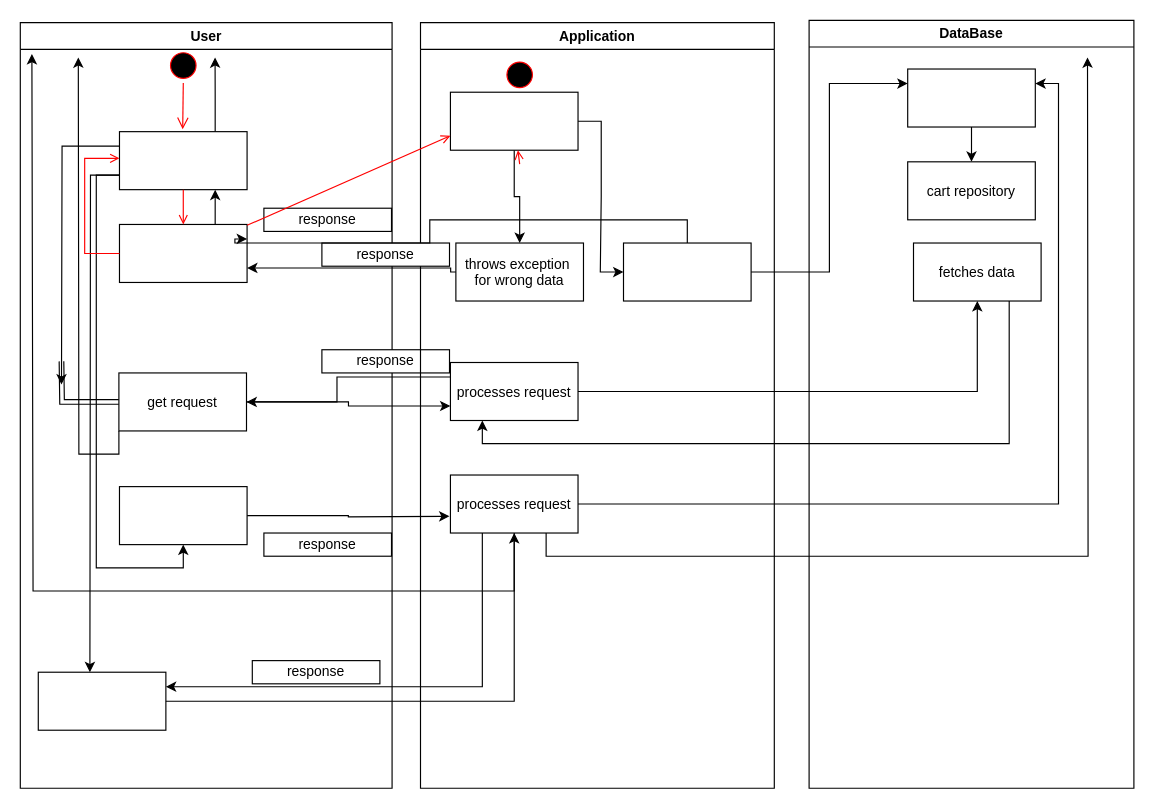
Image size: 1154x809. Some labels were removed from this diagram. The centre of each missing label's shape, as x and y in pixels:
add to cart request: [182,515]
passes data to DB: [686,271]
post resquest: [182,252]
remove item from cart request: [101,700]
stores data: [971,97]
user action: [182,160]
validate data from post request: [513,120]
